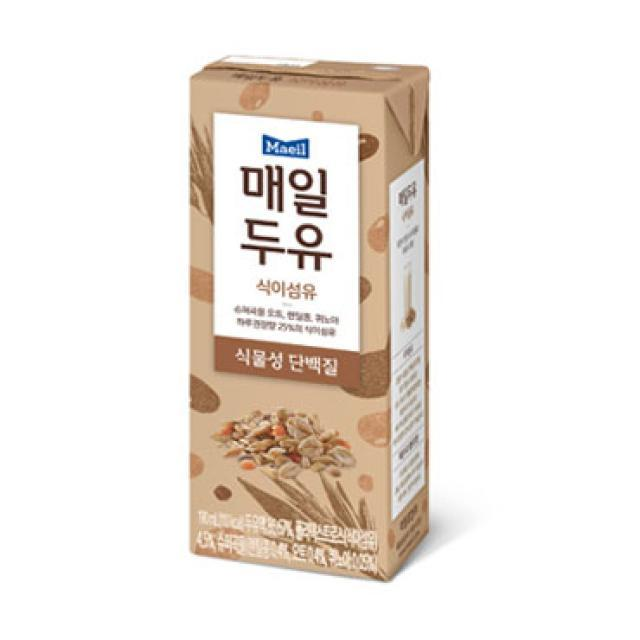Tetra: (175, 42, 442, 590)
